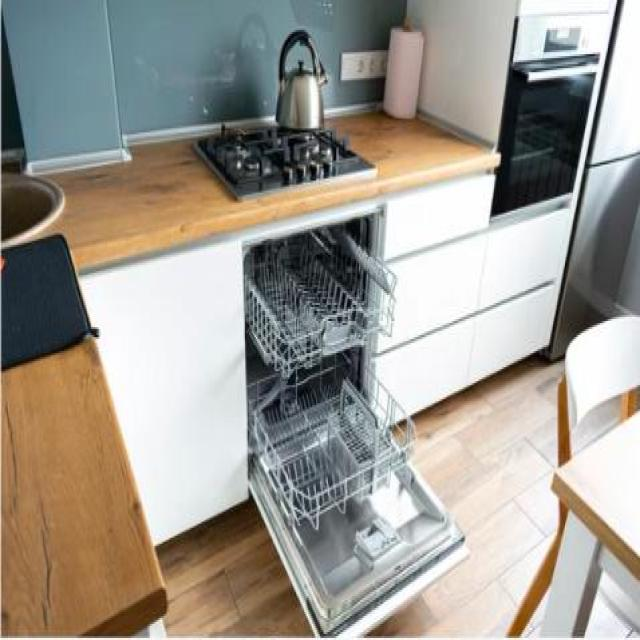dishwasher: (238, 201, 476, 638)
